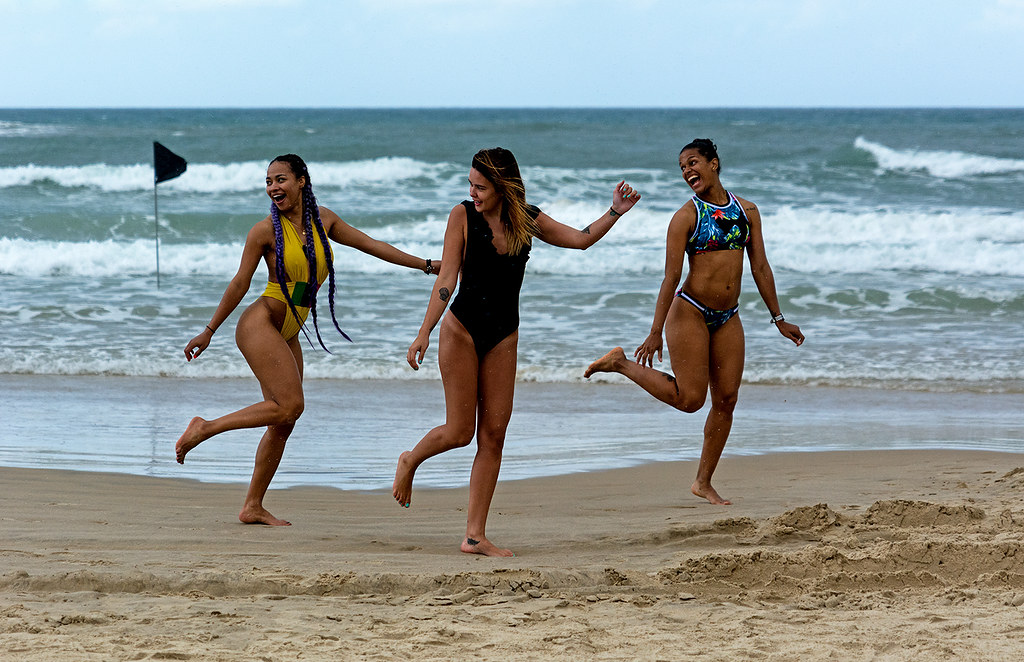Person: (151, 139, 446, 574), (382, 119, 640, 550), (580, 116, 813, 530)
